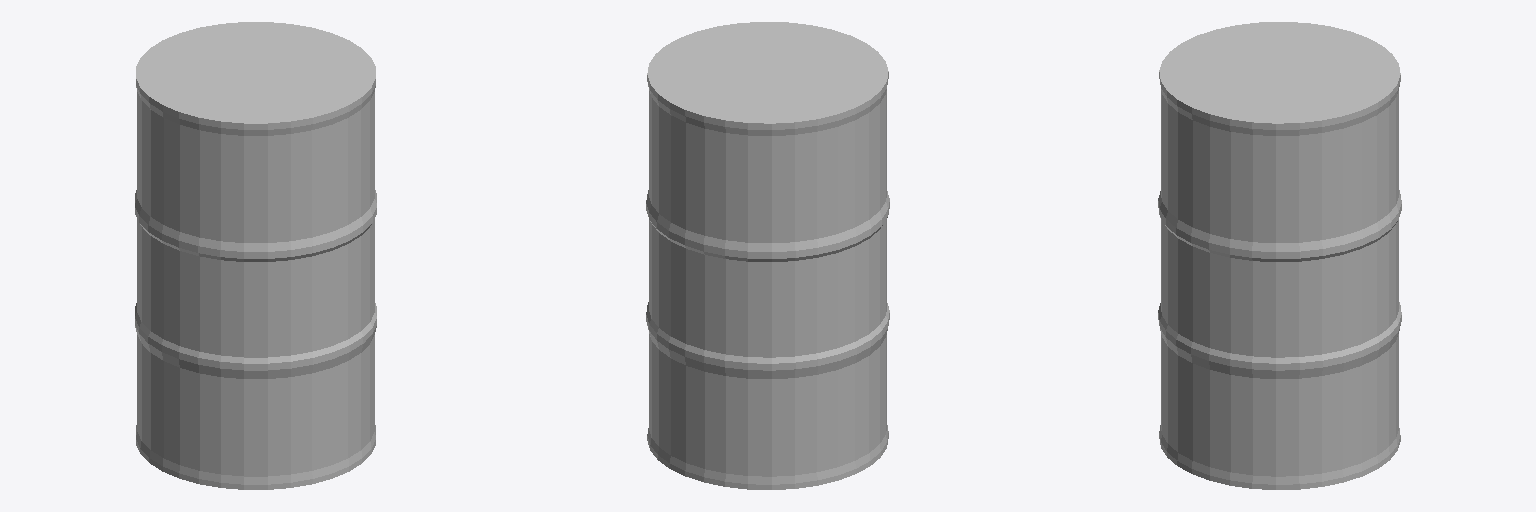
File: fuel.obj
3 renders of one model, left to right at view 1: azimuth 30°, elevation 25°; view 2: azimuth 150°, elevation 25°; view 3: azimuth 270°, elevation 25°, orthographic.
Parts seen in each view (by area): view 1: fuel:Mesh; view 2: fuel:Mesh; view 3: fuel:Mesh.
Part boxes in pixels (x1,y1,x2,y2): fuel:Mesh: (135,22,376,489); fuel:Mesh: (646,22,889,489); fuel:Mesh: (1158,22,1401,489).
Size of the model in its own units: 0.6966 by 1.16 by 0.6966.